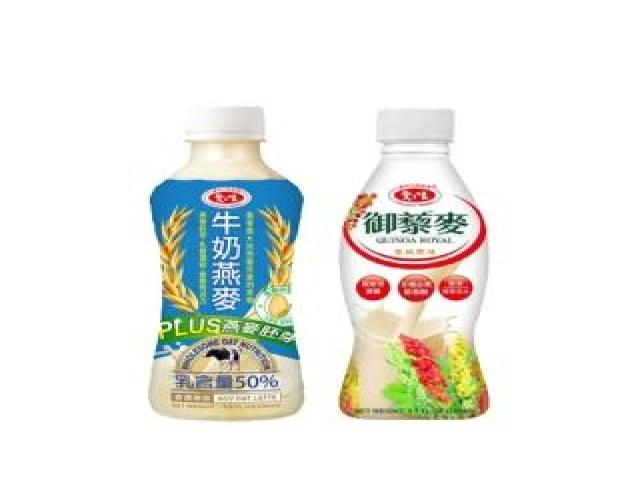bottle: (150, 108, 302, 419), (340, 109, 489, 419)
